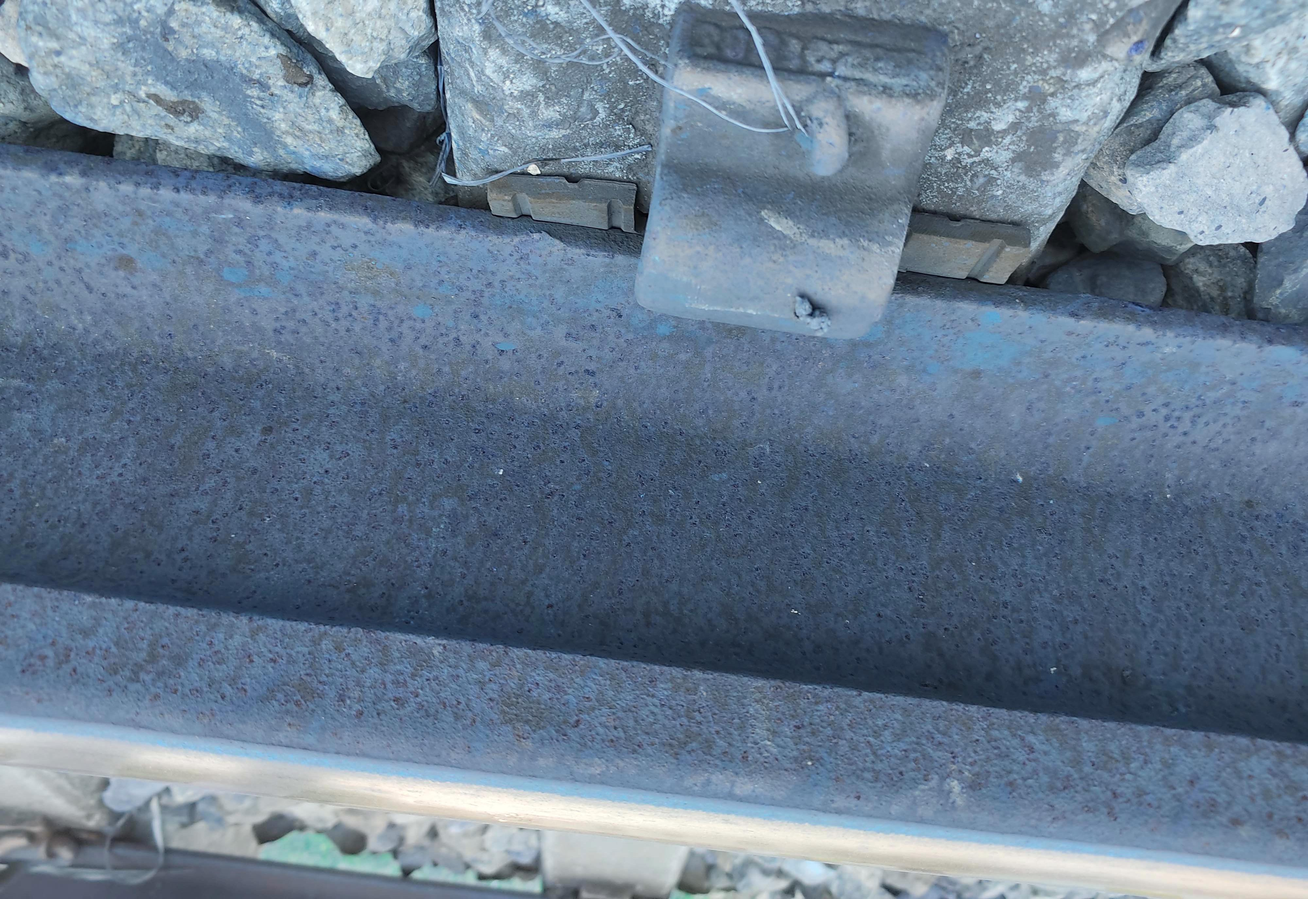loss: (622, 29, 974, 354)
